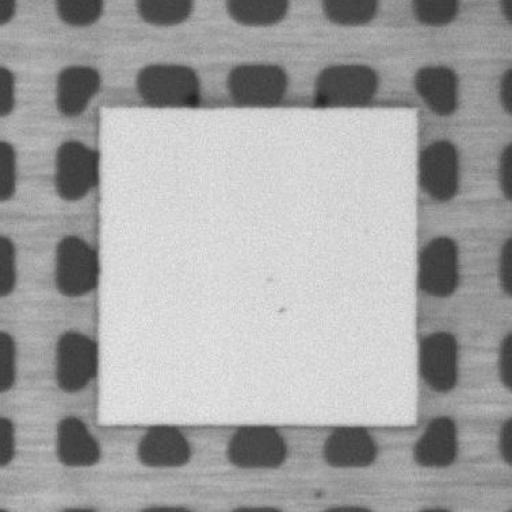DIE_INK: (275, 303, 287, 316)
